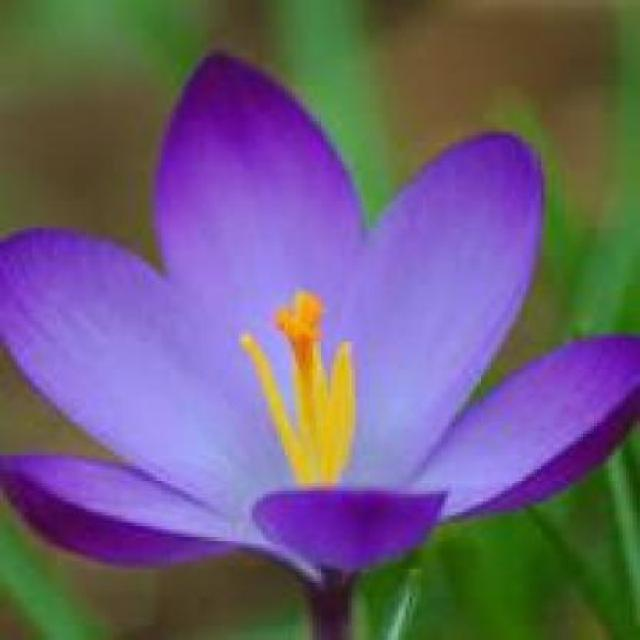Flower: (4, 46, 638, 640)
